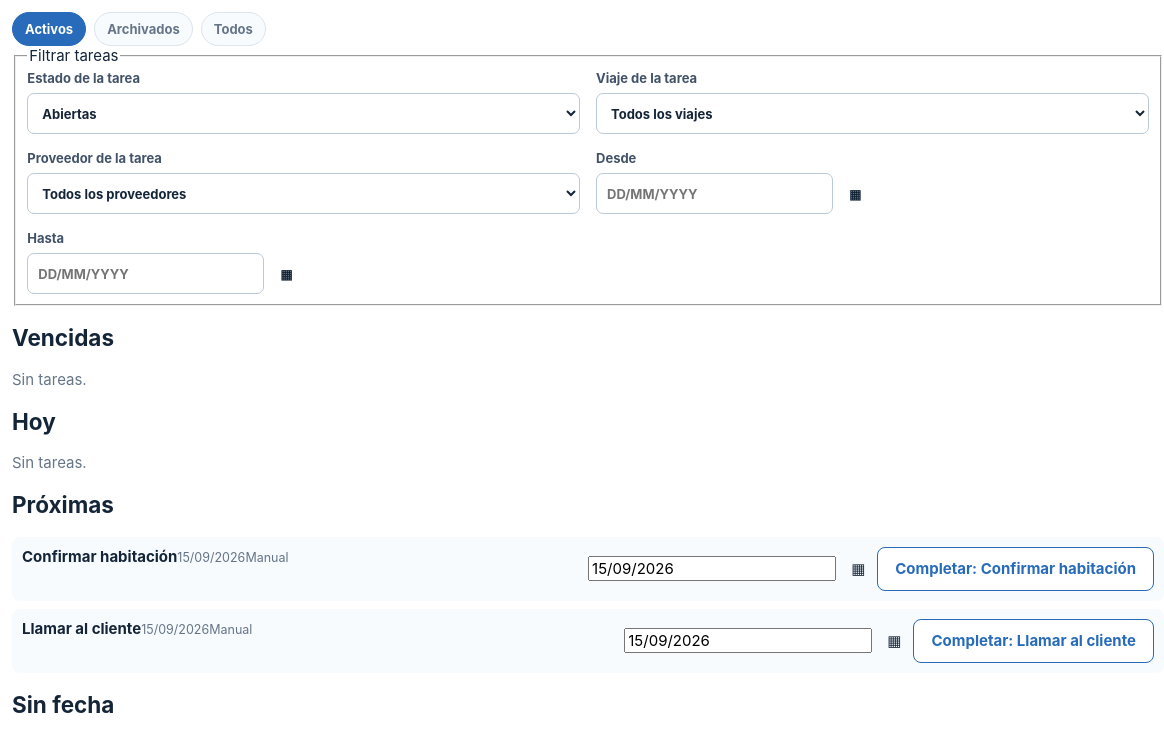
Test: groupTasks › applies the visible Tasks filters without changing the saved records
This screenshot has width=1164, height=732.
Step 1. Select "Hotel Aurora" in the dropdown labelled "Proveedor de la tarea" → (304, 194), box x1=27 y1=173 x2=580 y2=214
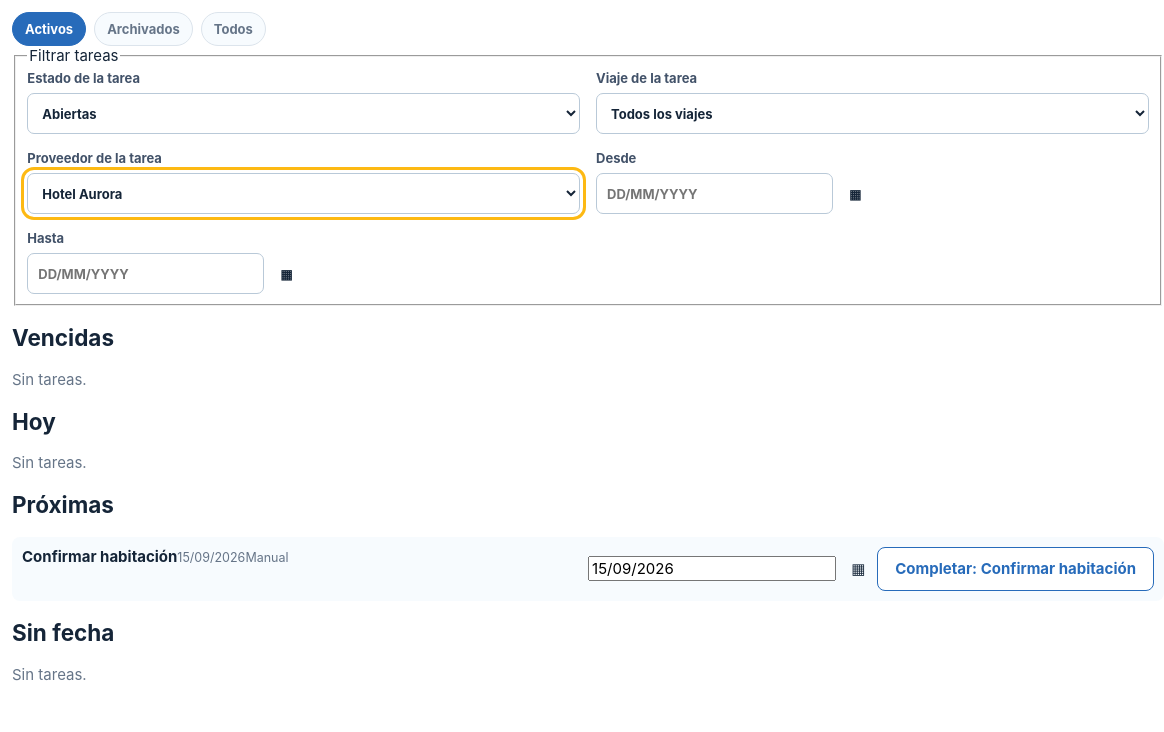
Expected: the text "Confirmar habitación" is shown, x1=22 y1=547 x2=177 y2=566
Expected: the text "Llamar al cliente" is gone
